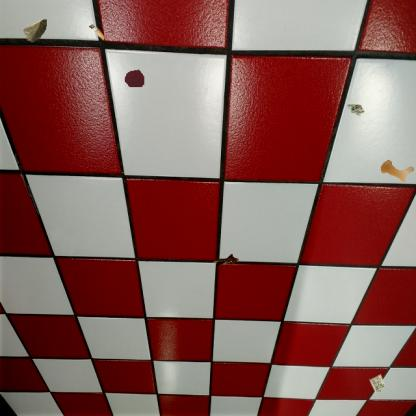dirty: (21, 17, 49, 44), (212, 252, 238, 270), (368, 372, 388, 394), (87, 22, 107, 40), (344, 101, 366, 117)
liquid: (380, 158, 416, 184), (124, 70, 144, 87)
